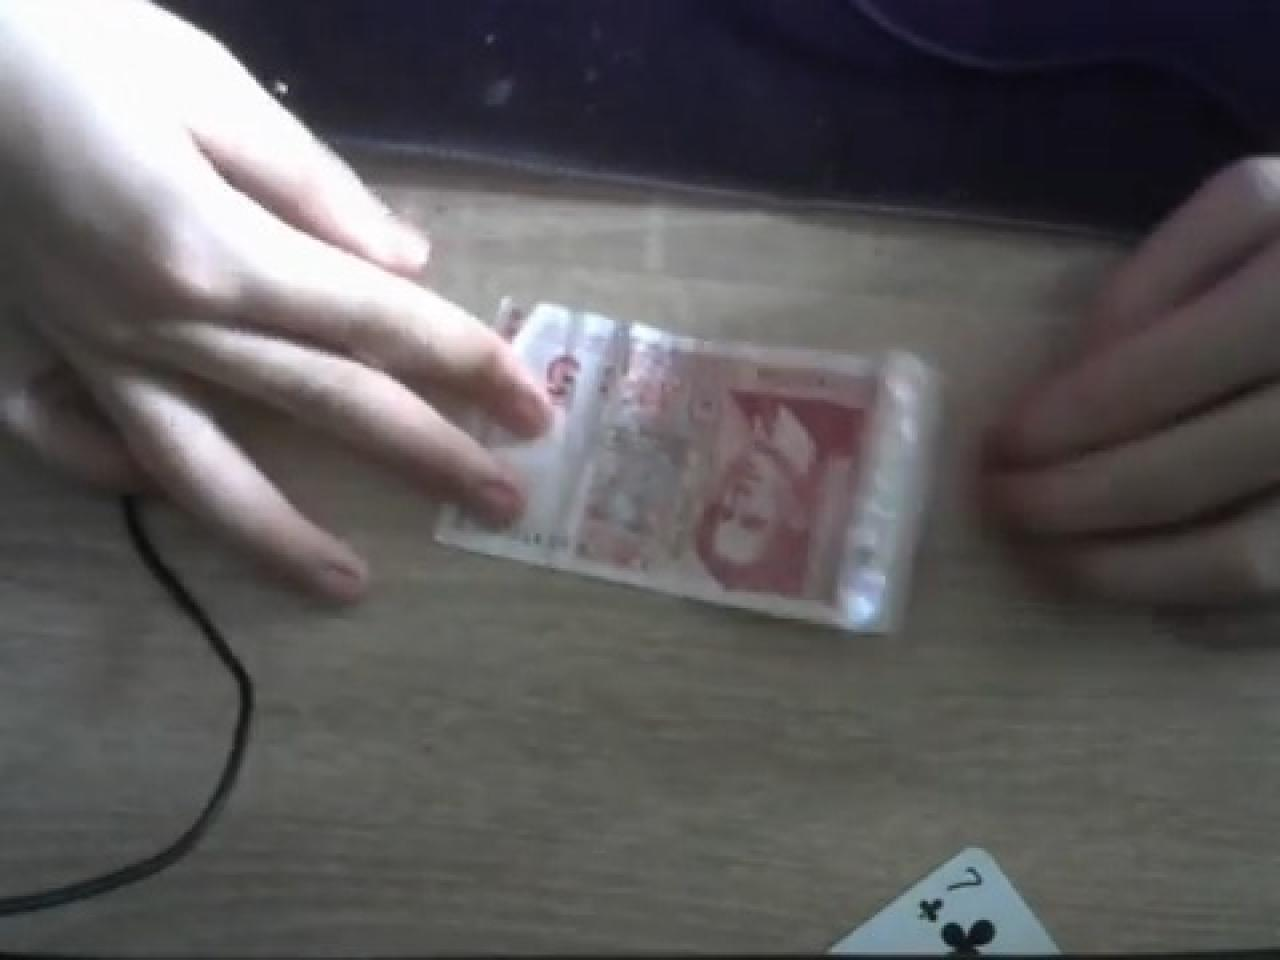5leva: (434, 304, 941, 640)
